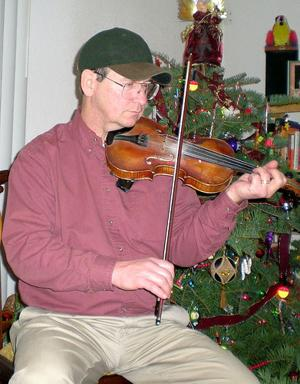person: (1, 28, 287, 384)
